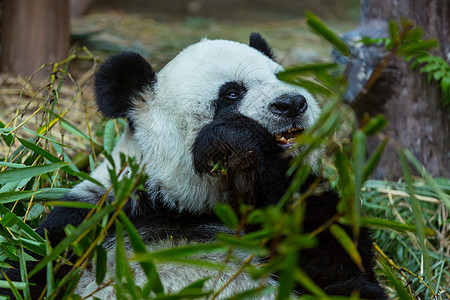panda: (42, 20, 378, 299)
